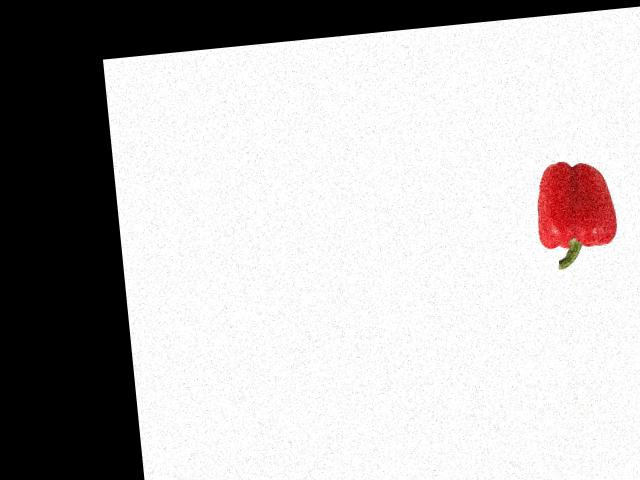bell_pepper: (528, 155, 631, 270)
